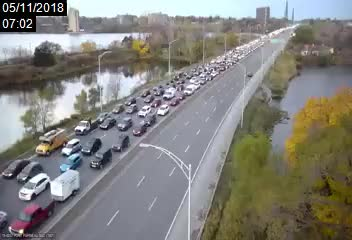congestion: (3, 116, 138, 233), (83, 84, 184, 134), (149, 61, 226, 90), (207, 50, 245, 66)
personal_car: (7, 199, 58, 235), (16, 174, 51, 198), (2, 157, 31, 180), (17, 161, 45, 181), (90, 147, 113, 170), (59, 154, 82, 172), (112, 133, 132, 152), (83, 137, 101, 156), (61, 139, 81, 154), (117, 116, 133, 130), (131, 123, 149, 135), (143, 113, 157, 126), (101, 118, 117, 129), (138, 104, 152, 116), (155, 105, 169, 116), (163, 87, 175, 99), (113, 103, 124, 114), (125, 104, 137, 114), (142, 94, 154, 103), (124, 96, 136, 105), (184, 85, 194, 95), (97, 112, 107, 122), (169, 96, 178, 107), (154, 87, 163, 96), (151, 98, 161, 106), (198, 77, 207, 85), (165, 81, 174, 89), (176, 92, 185, 100), (140, 89, 149, 97), (176, 84, 184, 92), (188, 76, 197, 83), (153, 83, 162, 90), (176, 78, 184, 85)
truck: (34, 128, 67, 154), (74, 118, 97, 137)
